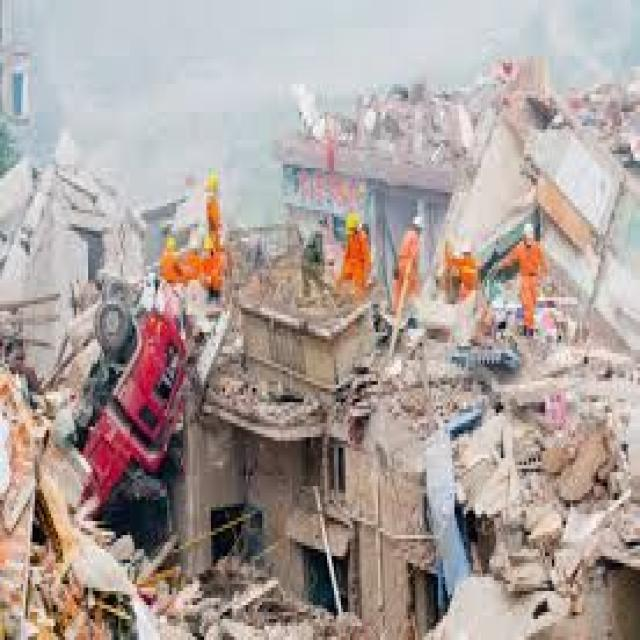collapsed_building: (202, 290, 464, 622), (0, 157, 141, 611), (285, 94, 536, 284)
